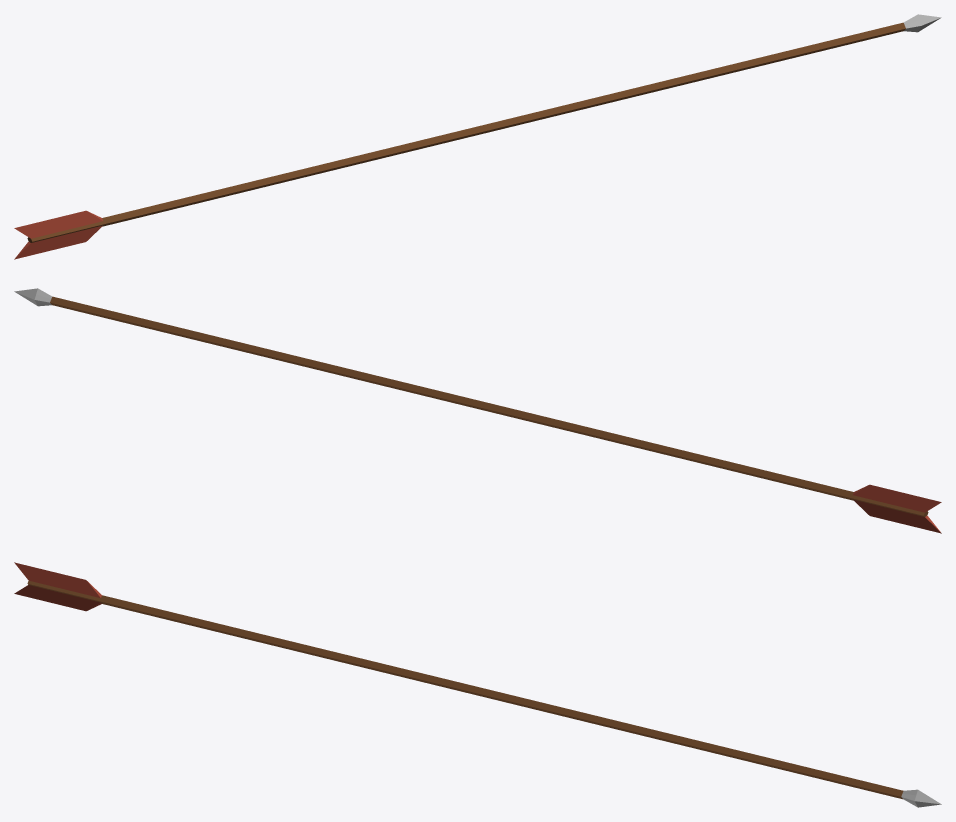
The picture shows the model from 3 angles, top to bottom: view 1: azimuth 30°, elevation 25°; view 2: azimuth 150°, elevation 25°; view 3: azimuth 330°, elevation 25°; orthographic projection.
Visible parts, largest first — view 1: Cylinder; view 2: Cylinder; view 3: Cylinder.
Part boxes in pixels (x1=…): Cylinder: x1=14, y1=14, x2=941, y2=259; Cylinder: x1=14, y1=288, x2=941, y2=533; Cylinder: x1=14, y1=562, x2=941, y2=807.
Bounding box in the file's own units: 472 × 15.27 × 6.05.
